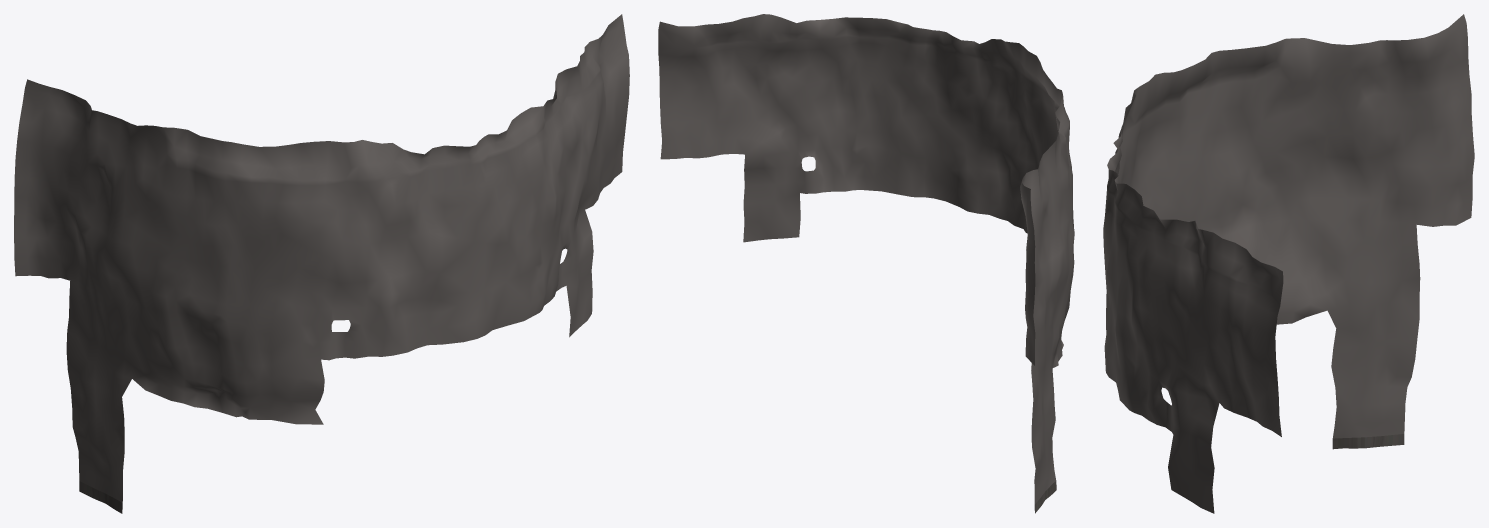
The model's file is SM_ENV_KNFRST_Wall_Aa_COL.FBX.
3 renders of one model, left to right at view 1: azimuth 30°, elevation 25°; view 2: azimuth 150°, elevation 25°; view 3: azimuth 270°, elevation 25°, orthographic. The views are drawn at different scales.
Parts seen in each view (by area): view 1: SM_ENV_KNFRST_Wall_Aa_COL; view 2: SM_ENV_KNFRST_Wall_Aa_COL; view 3: SM_ENV_KNFRST_Wall_Aa_COL.
Boxes of the visible parts, x1,y1,x2,y2 form: SM_ENV_KNFRST_Wall_Aa_COL: (14, 14, 629, 513); SM_ENV_KNFRST_Wall_Aa_COL: (658, 14, 1074, 513); SM_ENV_KNFRST_Wall_Aa_COL: (1103, 14, 1474, 513).
Bounding box in the file's own units: 7988 × 5960 × 4671.
